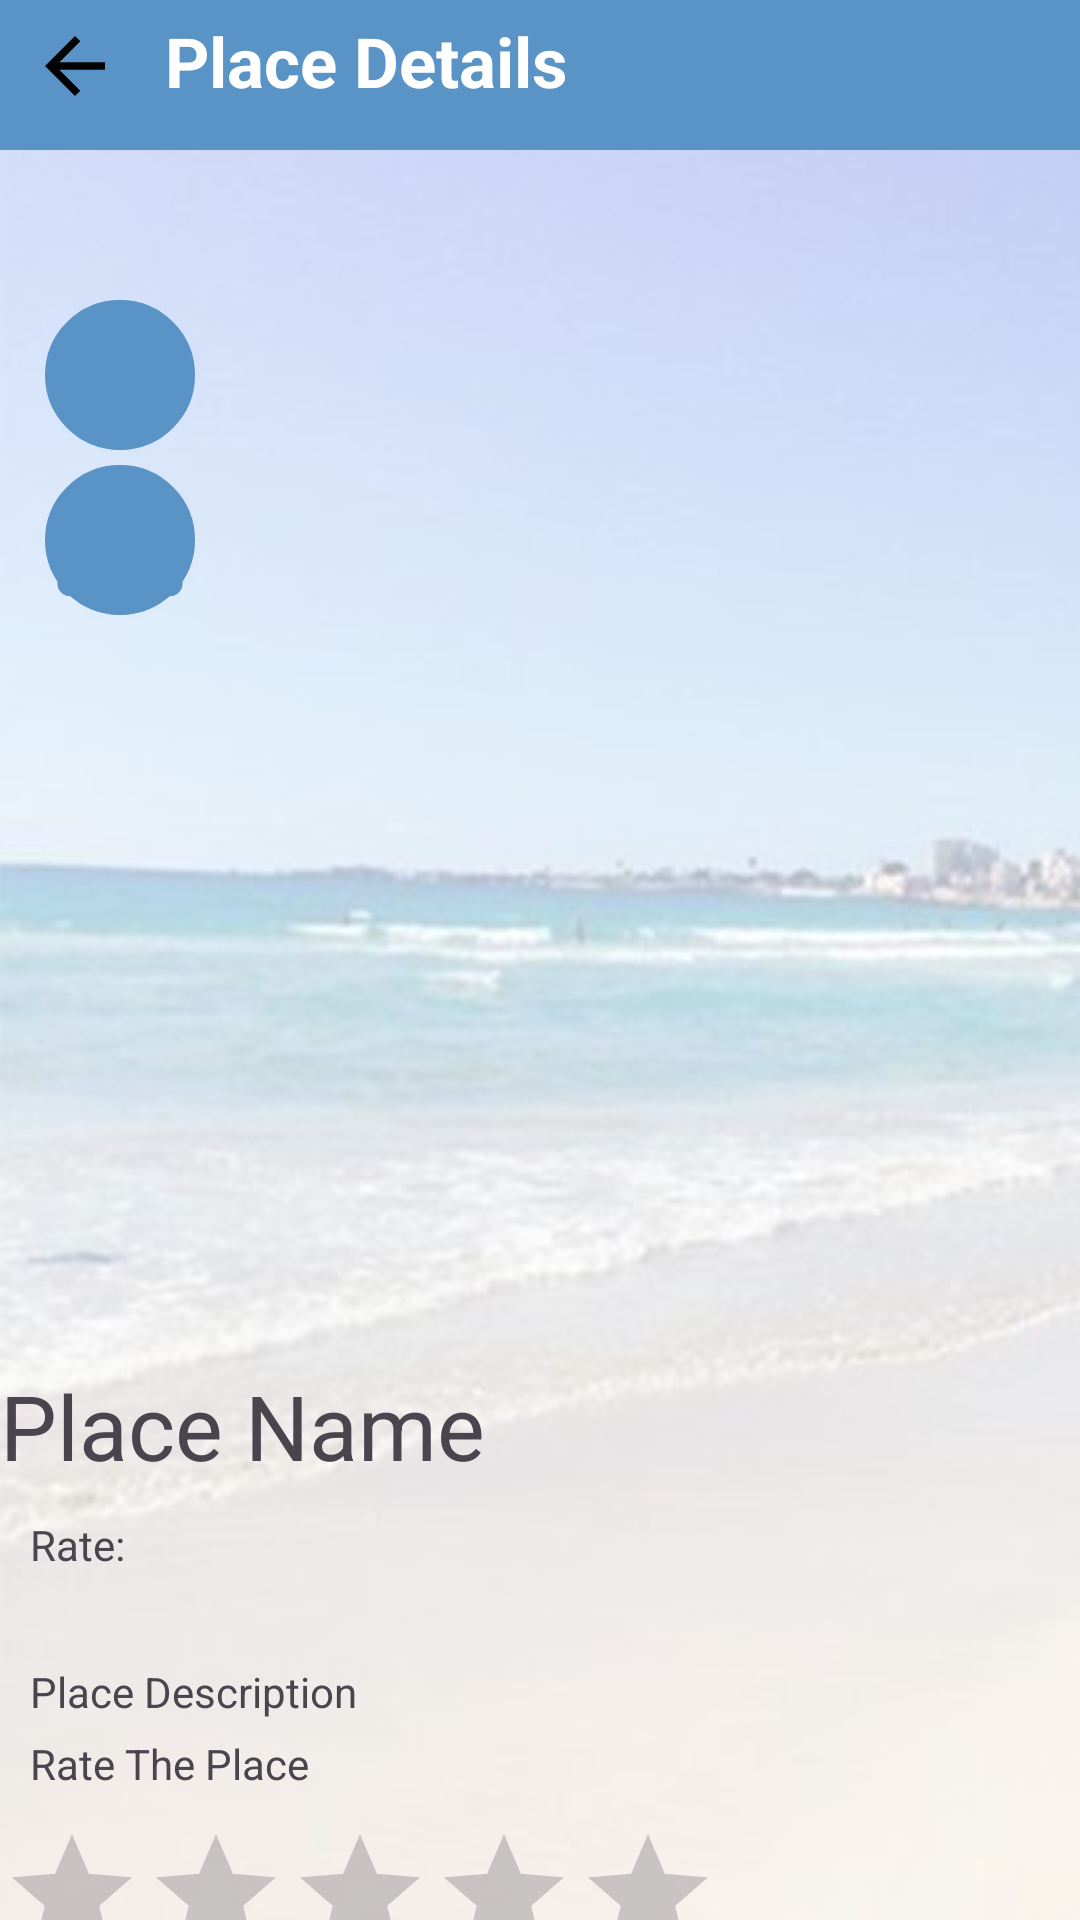

Where icons sit on this 1080x1920 app screen, as bbox(x1, y1, x2, y2):
arrow back: bbox(45, 36, 105, 96)
